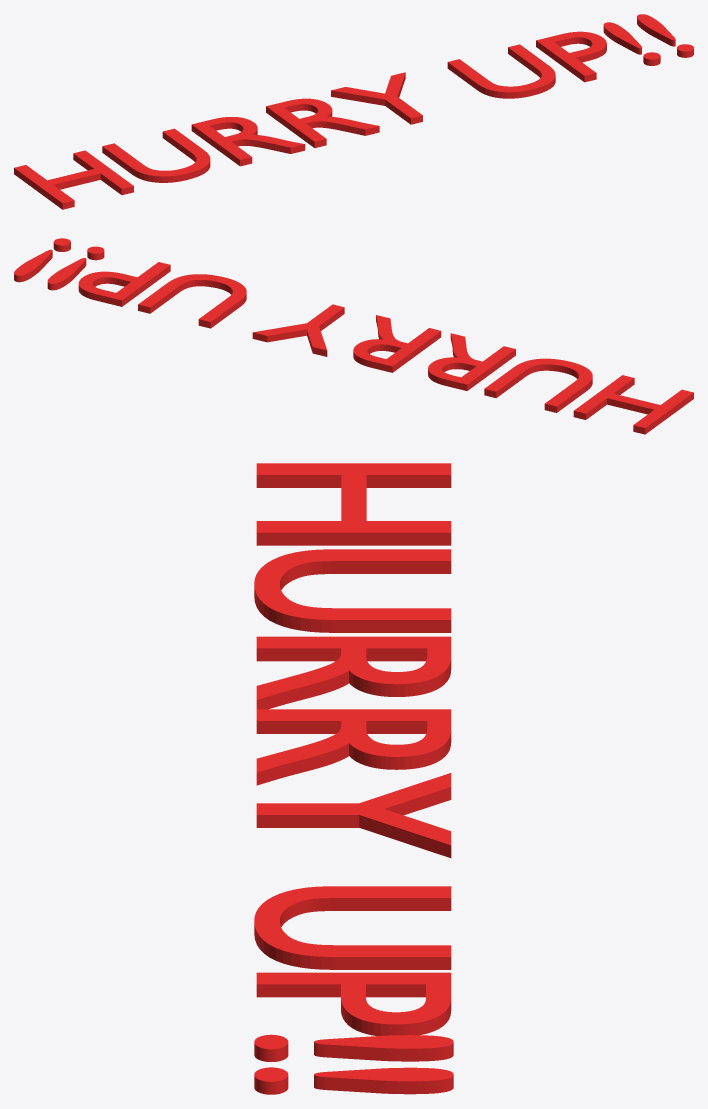
Rendered from hurry_up.fbx.
3 views of the same model, one above another, from view 1: azimuth 30°, elevation 25°; view 2: azimuth 150°, elevation 25°; view 3: azimuth 270°, elevation 25° (orthographic). The views are drawn at different scales.
Visible parts, largest first — view 1: Text.013; view 2: Text.013; view 3: Text.013.
Boxes of the visible parts, <box> form: Text.013: <box>14,14,693,209</box>; Text.013: <box>14,238,693,434</box>; Text.013: <box>254,463,453,1094</box>.
Size of the model in its own units: 514 by 5 by 70.
